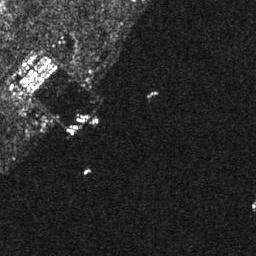ship: (147, 90, 158, 97), (82, 167, 91, 175), (65, 128, 75, 135), (80, 113, 91, 119), (70, 125, 80, 130), (77, 117, 85, 123)
